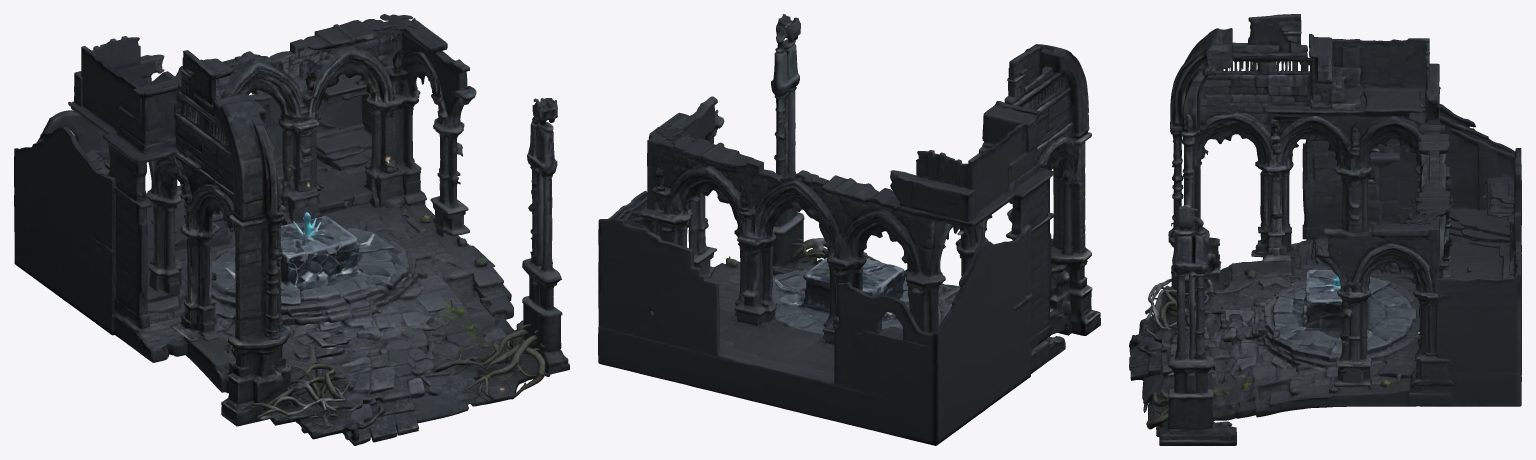
Rendered from ashveil-hero.glb.
The picture shows the model from 3 angles, left to right: view 1: azimuth 30°, elevation 25°; view 2: azimuth 150°, elevation 25°; view 3: azimuth 270°, elevation 25°; orthographic projection. The views are drawn at different scales.
Visible parts, largest first — view 1: tripo_node_db32eda4-41a5-4dff-be07-8a7dc14cb797; view 2: tripo_node_db32eda4-41a5-4dff-be07-8a7dc14cb797; view 3: tripo_node_db32eda4-41a5-4dff-be07-8a7dc14cb797.
Part boxes in pixels (x1=…): tripo_node_db32eda4-41a5-4dff-be07-8a7dc14cb797: x1=14, y1=14, x2=569, y2=445; tripo_node_db32eda4-41a5-4dff-be07-8a7dc14cb797: x1=598, y1=14, x2=1100, y2=445; tripo_node_db32eda4-41a5-4dff-be07-8a7dc14cb797: x1=1129, y1=14, x2=1521, y2=445.
Bounding box in the file's own units: 0.9264 × 0.8621 × 1.
Materials: 1 (1 with a texture image).
